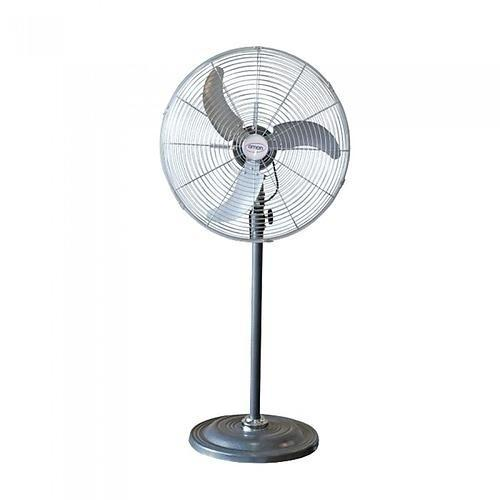fan: (148, 36, 361, 484)
